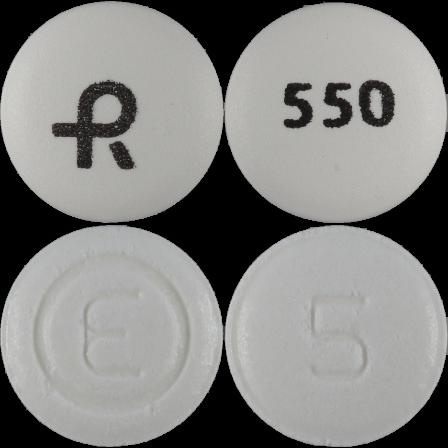63187-522: (0, 0, 224, 224)
